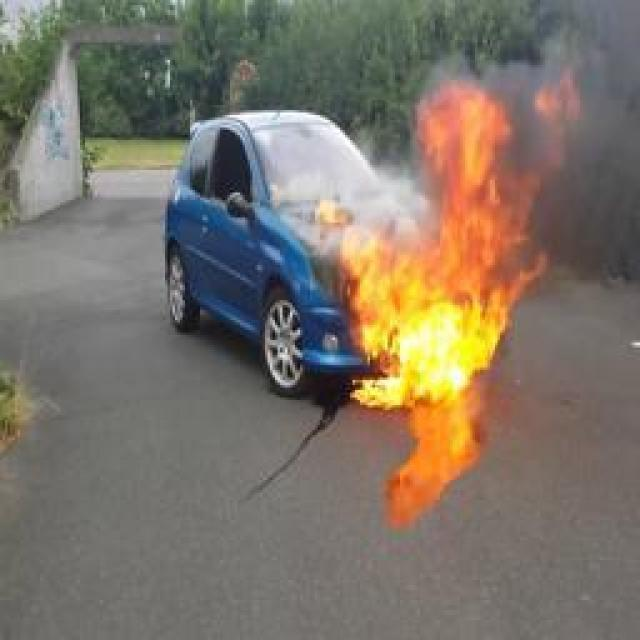Fire: (316, 72, 579, 406)
